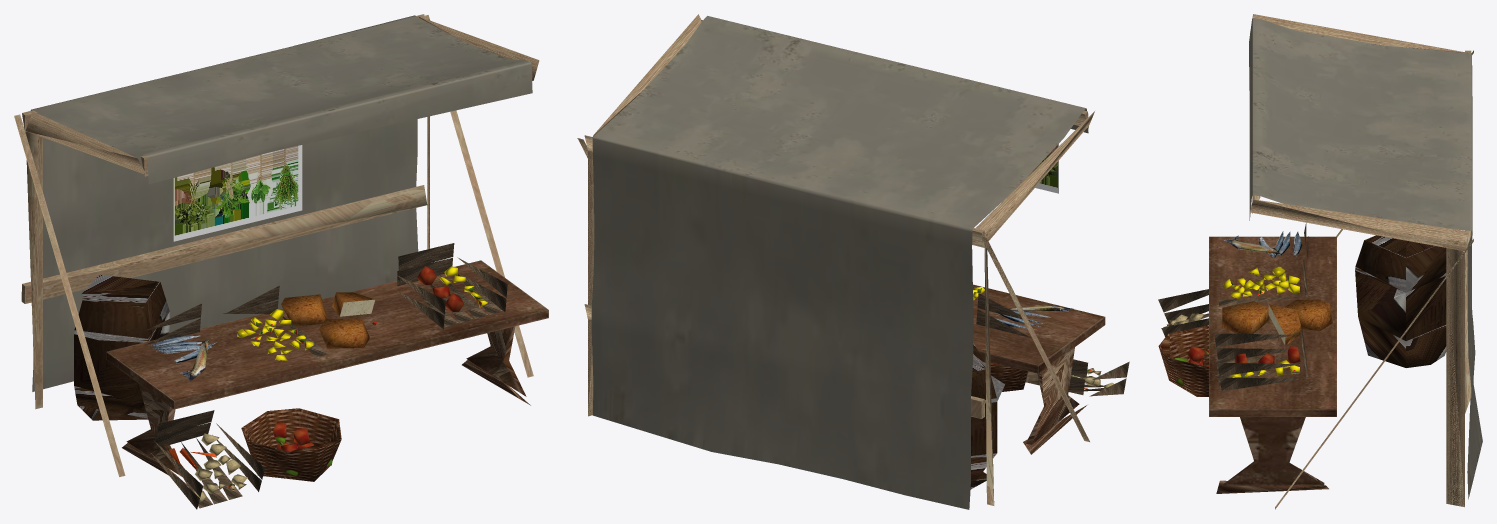
The model's file is sap-trai-cay-2.glb.
3 views of the same model, side by side, from view 1: azimuth 30°, elevation 25°; view 2: azimuth 150°, elevation 25°; view 3: azimuth 270°, elevation 25° (orthographic). The views are drawn at different scales.
Parts seen in each view (by area): view 1: Food_Stall_food_stll_cloth_BaseColor_0, Food_Stall_table_albedo_0, Food_Stall_food_stll_stand_BaseColor_0, Food_Stall_box_albedo_0, Food_Stall_barrel_albedo_0, Food_Stall_herbs_diffuze_0, Food_Stall_food_stll_basket_BaseColor_0, Food_Stall_food_stll_fruits_BaseColor_0, Food_Stall_food_stll_bread_BaseColor_0, Food_Stall_FISH_diffuze_0; view 2: Food_Stall_food_stll_cloth_BaseColor_0, Food_Stall_food_stll_stand_BaseColor_0, Food_Stall_table_albedo_0, Food_Stall_barrel_albedo_0, Food_Stall_box_albedo_0, Food_Stall_food_stll_basket_BaseColor_0, Food_Stall_FISH_diffuze_0; view 3: Food_Stall_food_stll_cloth_BaseColor_0, Food_Stall_table_albedo_0, Food_Stall_food_stll_stand_BaseColor_0, Food_Stall_barrel_albedo_0, Food_Stall_box_albedo_0, Food_Stall_food_stll_bread_BaseColor_0, Food_Stall_food_stll_fruits_BaseColor_0, Food_Stall_food_stll_basket_BaseColor_0, Food_Stall_FISH_diffuze_0.
Part boxes in pixels (bbox=[...]): Food_Stall_food_stll_cloth_BaseColor_0: bbox=[30, 15, 532, 391]; Food_Stall_table_albedo_0: bbox=[106, 260, 548, 486]; Food_Stall_food_stll_stand_BaseColor_0: bbox=[14, 14, 539, 476]; Food_Stall_box_albedo_0: bbox=[144, 243, 507, 509]; Food_Stall_barrel_albedo_0: bbox=[74, 274, 169, 420]; Food_Stall_herbs_diffuze_0: bbox=[173, 145, 302, 241]; Food_Stall_food_stll_basket_BaseColor_0: bbox=[241, 408, 341, 481]; Food_Stall_food_stll_fruits_BaseColor_0: bbox=[169, 266, 487, 502]; Food_Stall_food_stll_bread_BaseColor_0: bbox=[281, 292, 375, 348]; Food_Stall_FISH_diffuze_0: bbox=[148, 335, 216, 381]; Food_Stall_food_stll_cloth_BaseColor_0: bbox=[591, 16, 1088, 509]; Food_Stall_food_stll_stand_BaseColor_0: bbox=[577, 14, 1094, 505]; Food_Stall_table_albedo_0: bbox=[973, 284, 1105, 454]; Food_Stall_barrel_albedo_0: bbox=[970, 343, 1004, 489]; Food_Stall_box_albedo_0: bbox=[976, 293, 1129, 396]; Food_Stall_food_stll_basket_BaseColor_0: bbox=[990, 362, 1027, 391]; Food_Stall_FISH_diffuze_0: bbox=[995, 305, 1073, 329]; Food_Stall_food_stll_cloth_BaseColor_0: bbox=[1249, 18, 1482, 499]; Food_Stall_table_albedo_0: bbox=[1209, 236, 1336, 493]; Food_Stall_food_stll_stand_BaseColor_0: bbox=[1250, 14, 1473, 509]; Food_Stall_barrel_albedo_0: bbox=[1355, 235, 1446, 367]; Food_Stall_box_albedo_0: bbox=[1158, 223, 1308, 391]; Food_Stall_food_stll_bread_BaseColor_0: bbox=[1222, 299, 1332, 345]; Food_Stall_food_stll_fruits_BaseColor_0: bbox=[1163, 266, 1300, 385]; Food_Stall_food_stll_basket_BaseColor_0: bbox=[1158, 325, 1208, 396]; Food_Stall_FISH_diffuze_0: bbox=[1224, 231, 1302, 257].
Size of the model in its own units: 1 by 0.7512 by 0.7179.
10 materials, 10 textured.
